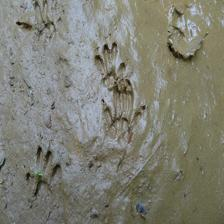squirrel: (95, 82, 146, 166), (91, 43, 127, 90)
